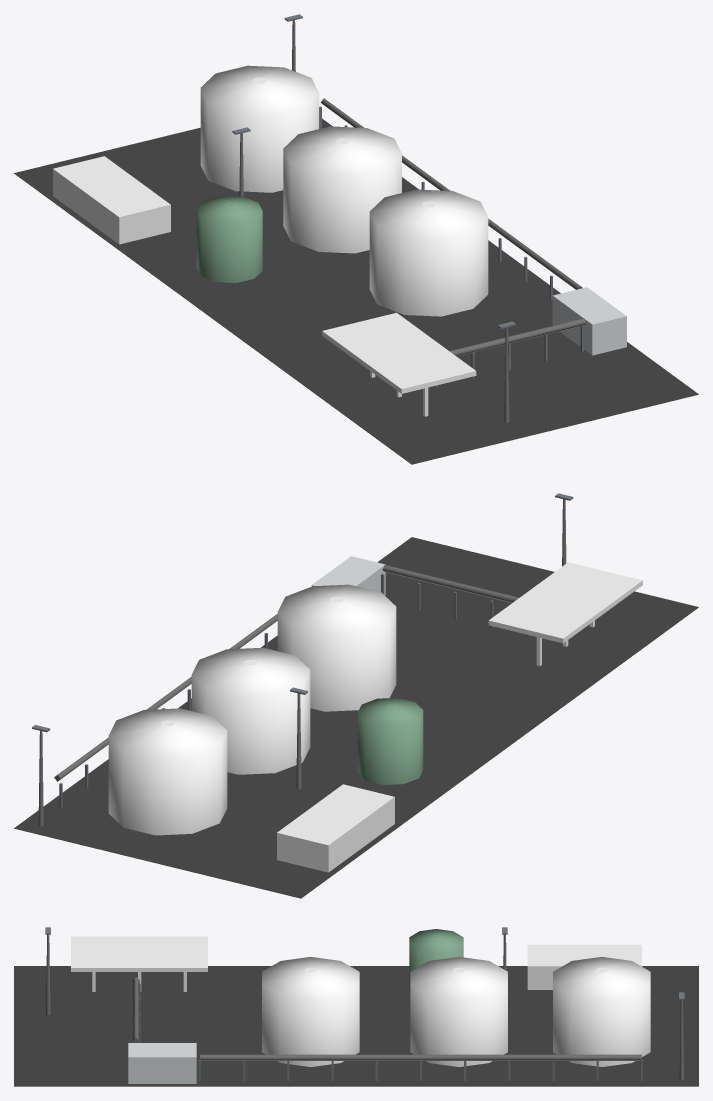
Rendered from top-prebuilt_far.fbx.
3 renders of one model, top to bottom at view 1: azimuth 30°, elevation 25°; view 2: azimuth 150°, elevation 25°; view 3: azimuth 270°, elevation 25°, orthographic. The views are drawn at different scales.
Visible parts, largest first — view 1: a1079_0_top-prebuilt_far; view 2: a1079_0_top-prebuilt_far; view 3: a1079_0_top-prebuilt_far.
Boxes of the visible parts, x1,y1,x2,y2 form: a1079_0_top-prebuilt_far: [14, 14, 698, 464]; a1079_0_top-prebuilt_far: [14, 493, 698, 898]; a1079_0_top-prebuilt_far: [14, 927, 698, 1086].
Size of the model in its own units: 50 by 16.25 by 120.
